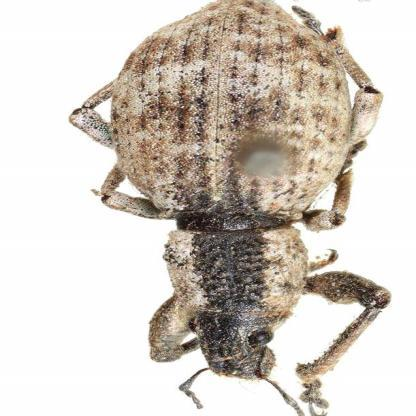rice-bug: (72, 0, 393, 391)
